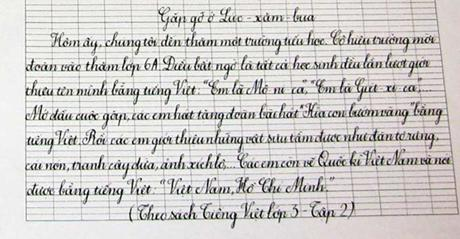text: (22, 148, 454, 182), (23, 99, 444, 131), (23, 76, 434, 107), (23, 126, 441, 156), (48, 28, 438, 58), (24, 51, 432, 79), (24, 174, 337, 207), (127, 199, 355, 225), (156, 5, 318, 33)
